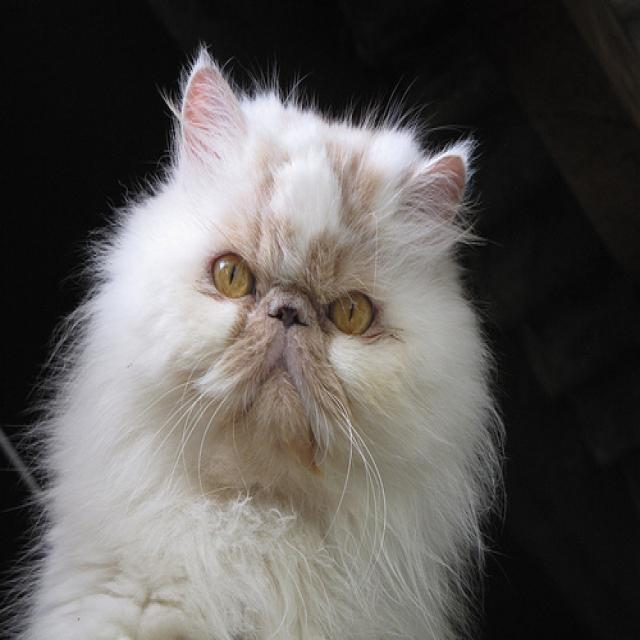Persian: (89, 47, 494, 516)
